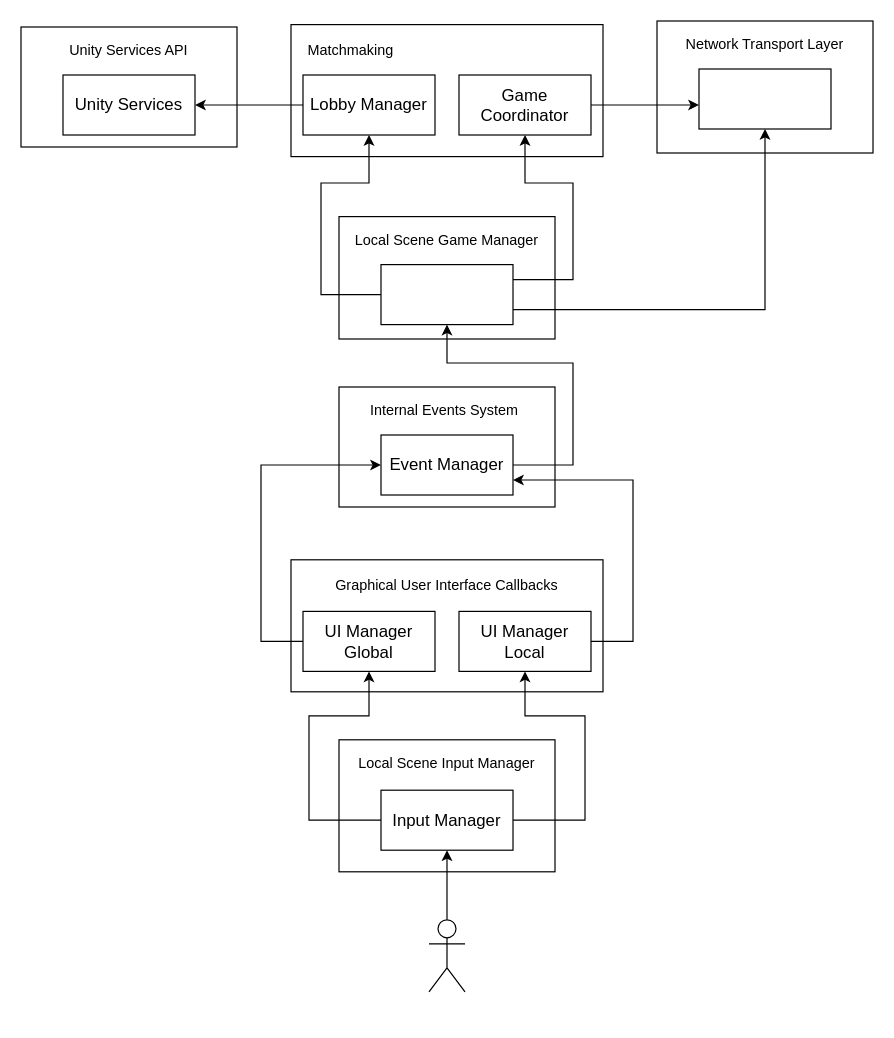
Some shapes in this 894 by 1038 pixel diagram are drawn without their labels. The shapes that lost their labels are listed below. From the top down, each one's centre as x and y in pixels, then its label:
(764,98): Network Manager
(446,294): Game Manager
(446,955): User
